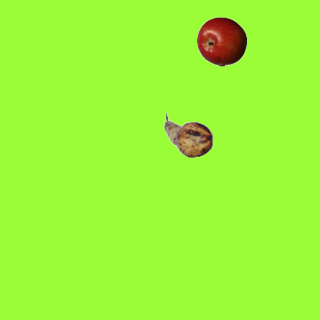Apple Braeburn: (196, 16, 246, 66)
Pear Abate: (163, 110, 213, 160)
